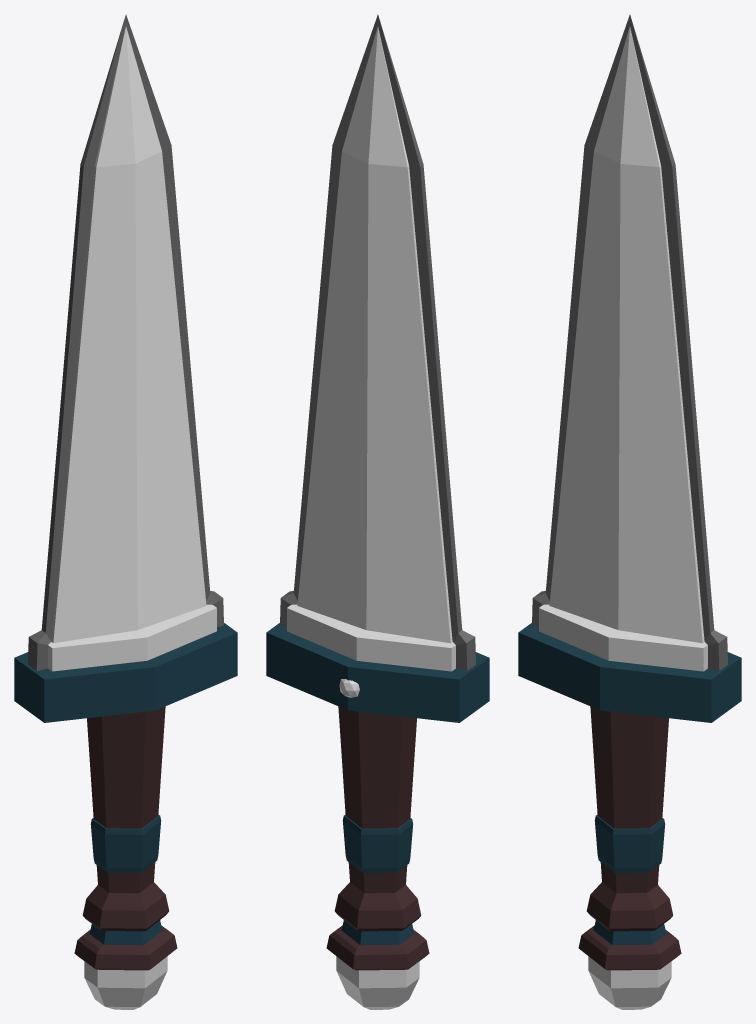
File: blue_sword.fbx
The picture shows the model from 3 angles, left to right: view 1: azimuth 30°, elevation 25°; view 2: azimuth 150°, elevation 25°; view 3: azimuth 330°, elevation 25°; orthographic projection.
Parts seen in each view (by area): view 1: Cylinder; view 2: Cylinder; view 3: Cylinder.
Part boxes in pixels (x1,y1,x2,y2): Cylinder: (14, 14, 237, 1009); Cylinder: (266, 14, 489, 1009); Cylinder: (518, 14, 741, 1009).
Bounding box in the file's own units: 373 × 1827 × 207.
